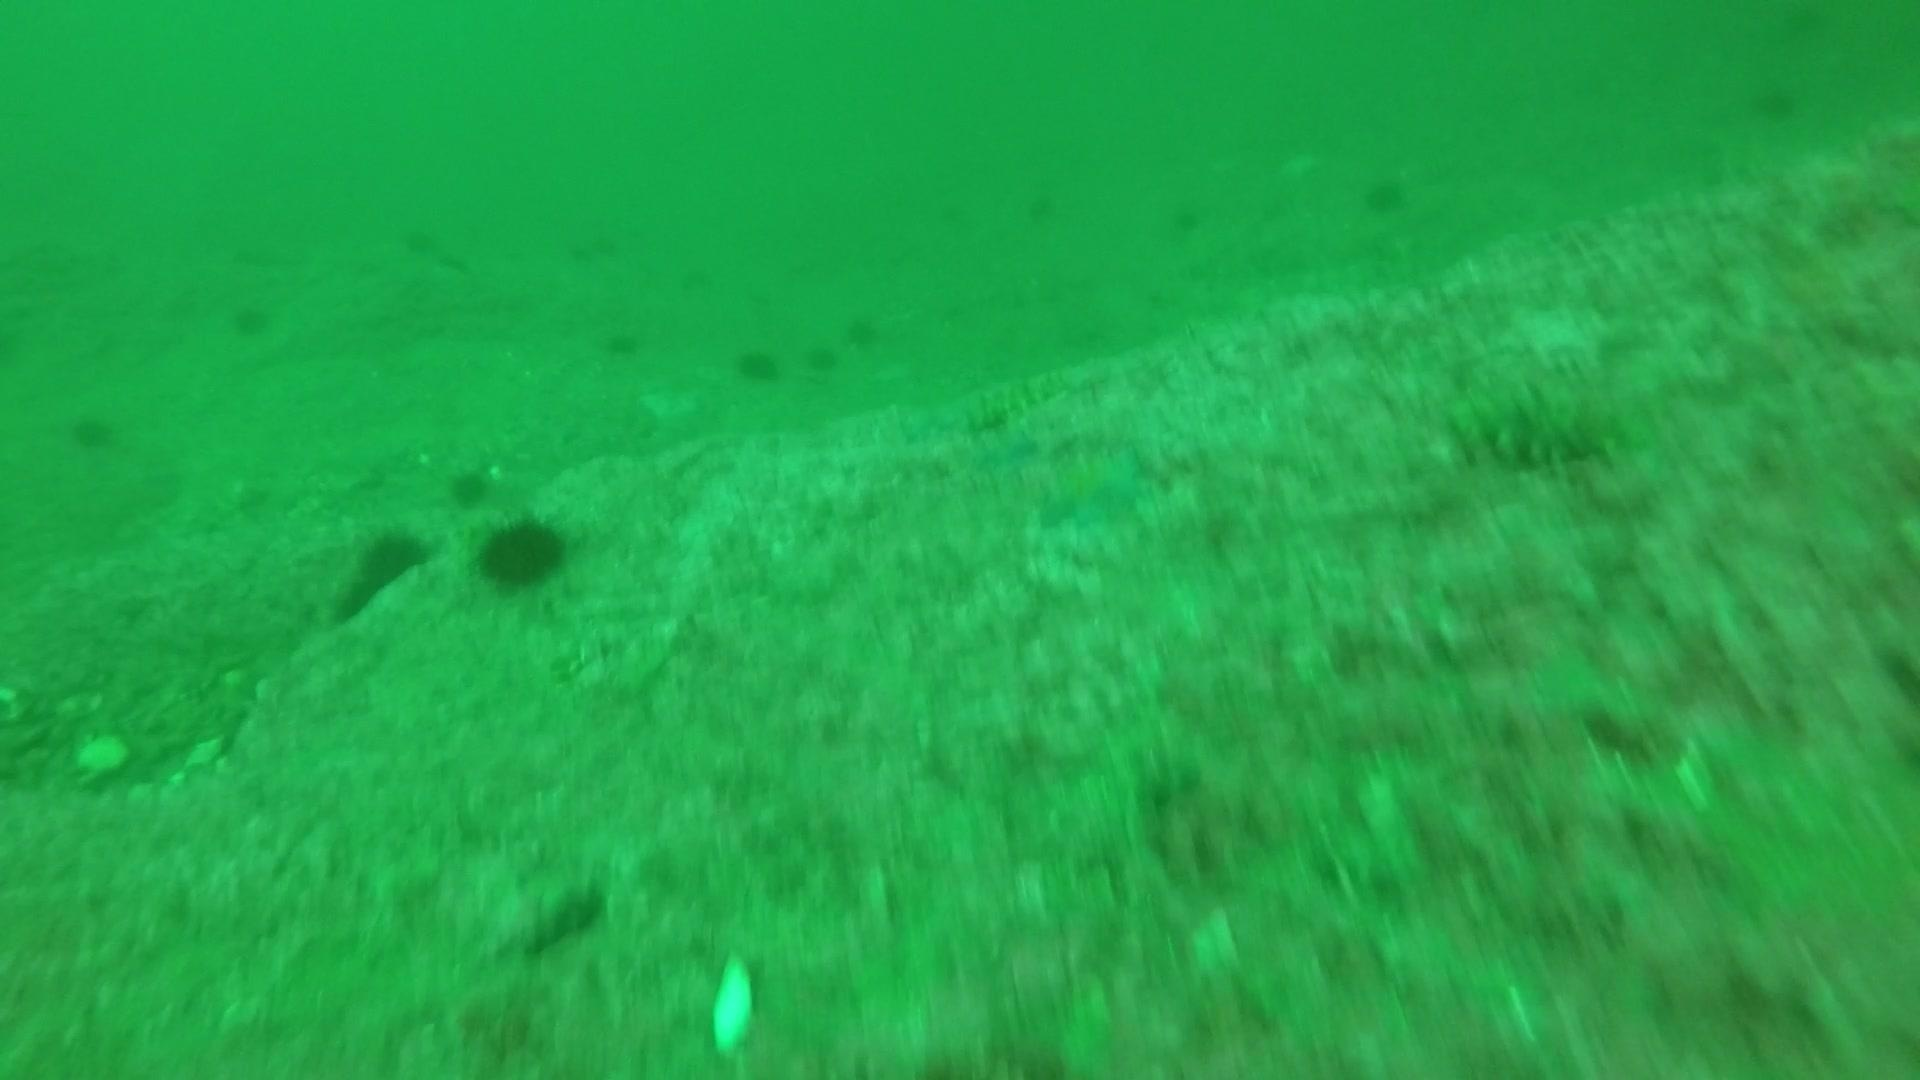echinus: (472, 510, 574, 595), (357, 521, 434, 585), (323, 574, 385, 625), (65, 405, 123, 455), (1360, 169, 1412, 218), (1750, 87, 1803, 136), (225, 295, 276, 342), (732, 342, 783, 386), (444, 469, 498, 510), (843, 309, 884, 352), (396, 225, 436, 258), (603, 327, 645, 359), (802, 342, 844, 373), (676, 261, 719, 293), (435, 255, 473, 284), (1027, 190, 1059, 222), (1176, 207, 1209, 237), (585, 233, 615, 258), (942, 198, 971, 219), (568, 248, 592, 262)
holothurian: (1439, 355, 1636, 477), (955, 367, 1071, 436)
starfish: (1031, 438, 1154, 534)
